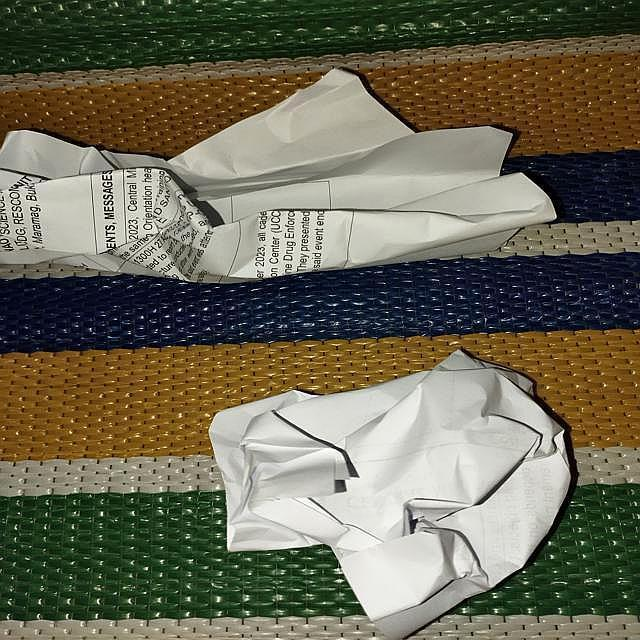Biodegradable: (1, 68, 556, 280), (211, 352, 569, 640)
